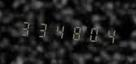eight: (66, 19, 81, 45)
four: (50, 18, 65, 43), (98, 22, 113, 47)
three: (17, 15, 32, 40), (33, 17, 48, 42)
zero: (82, 21, 97, 46)
